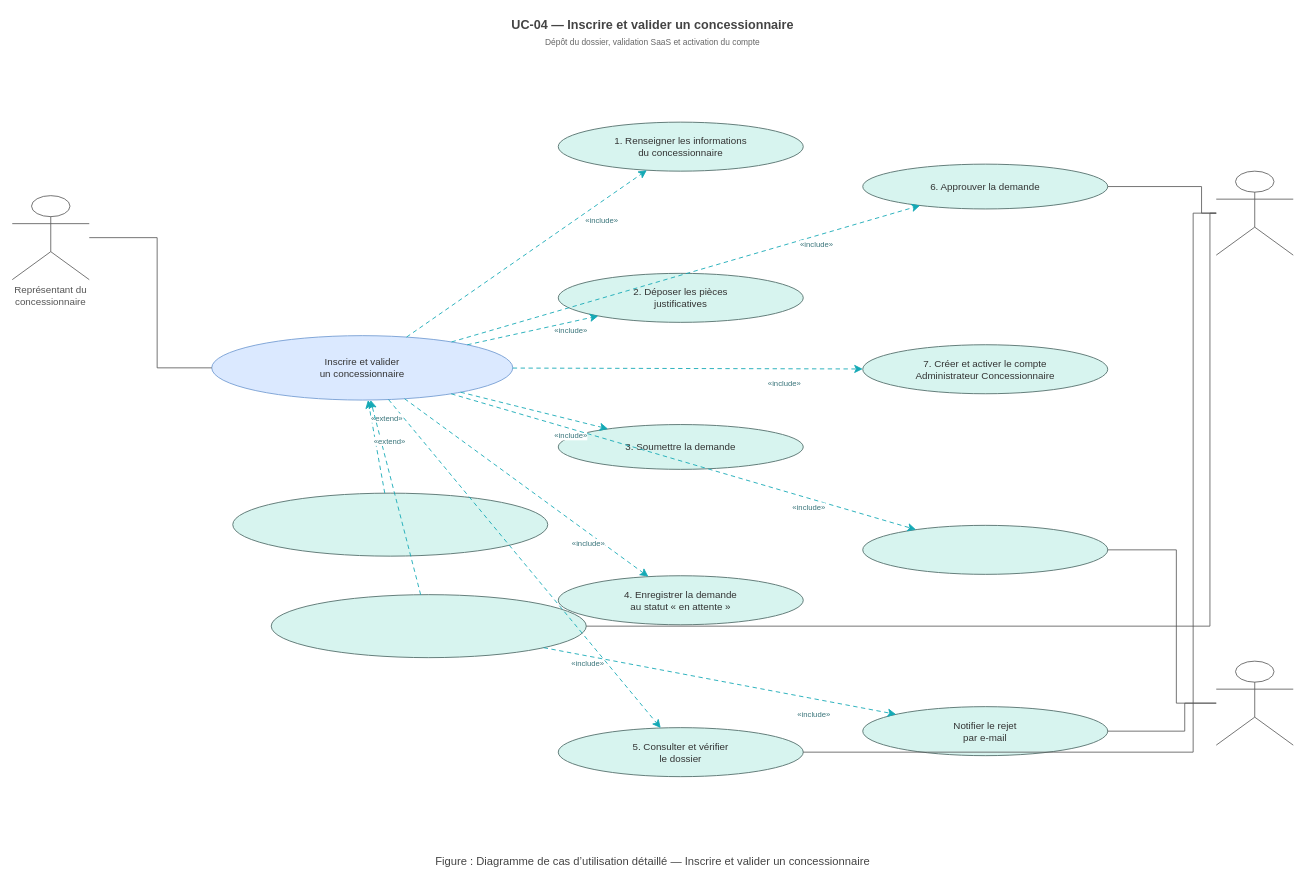
Some shapes in this 1306 by 885 pixel diagram are drawn without their labels. The shapes that lost their labels are listed below. From the top down, each one's centre as x and y in pixels, then its label:
At point 1254,212: "Administrateur SaaS «système externe»".
At point 390,524: "Corriger ou compléter le dossier [information ou document manquant]".
At point 985,549: "8. Envoyer les identifiants de connexion".
At point 428,626: "Rejeter la demande avec un motif [dossier non conforme]".
At point 1254,702: "Service e-mail «système externe»".
